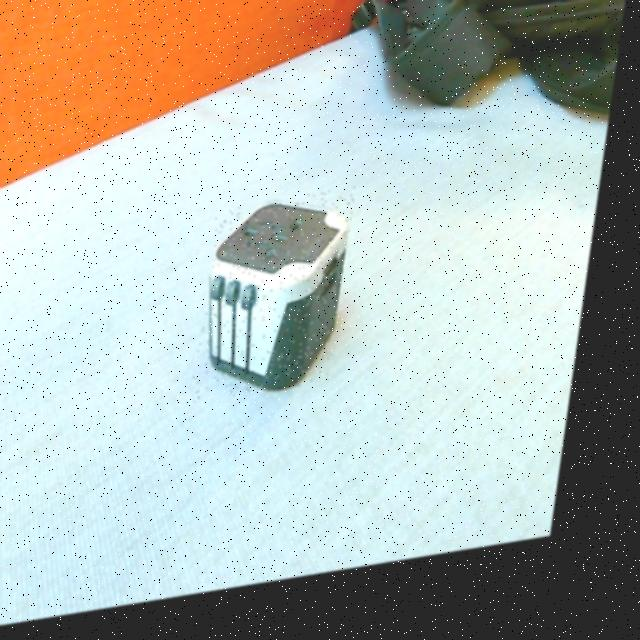adapter: (203, 200, 363, 413)
